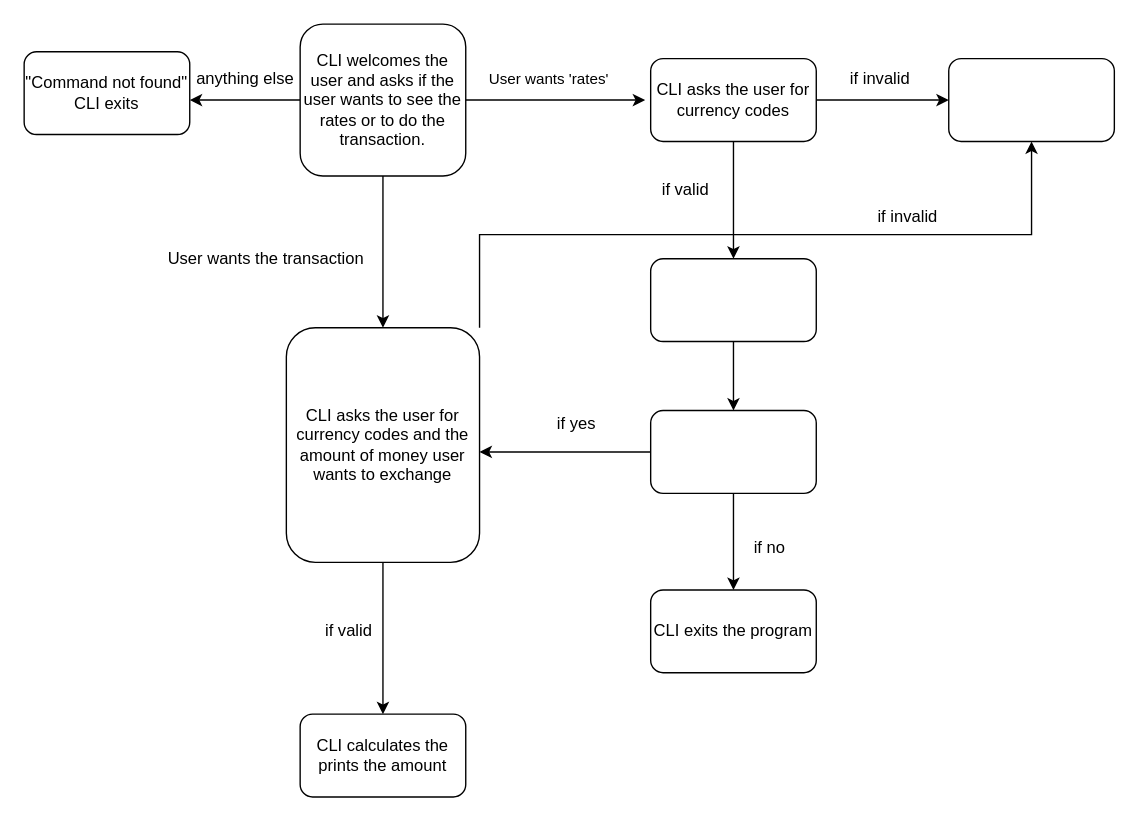
This 1139x821 diagram has some shape labels left out. Each missing label, with the centre of its shape:
"An error is raised" belongs at [1030,99].
"CLI asking would User want to proceed" belongs at [732,451].
"CLI prints the rates" belongs at [732,299].
